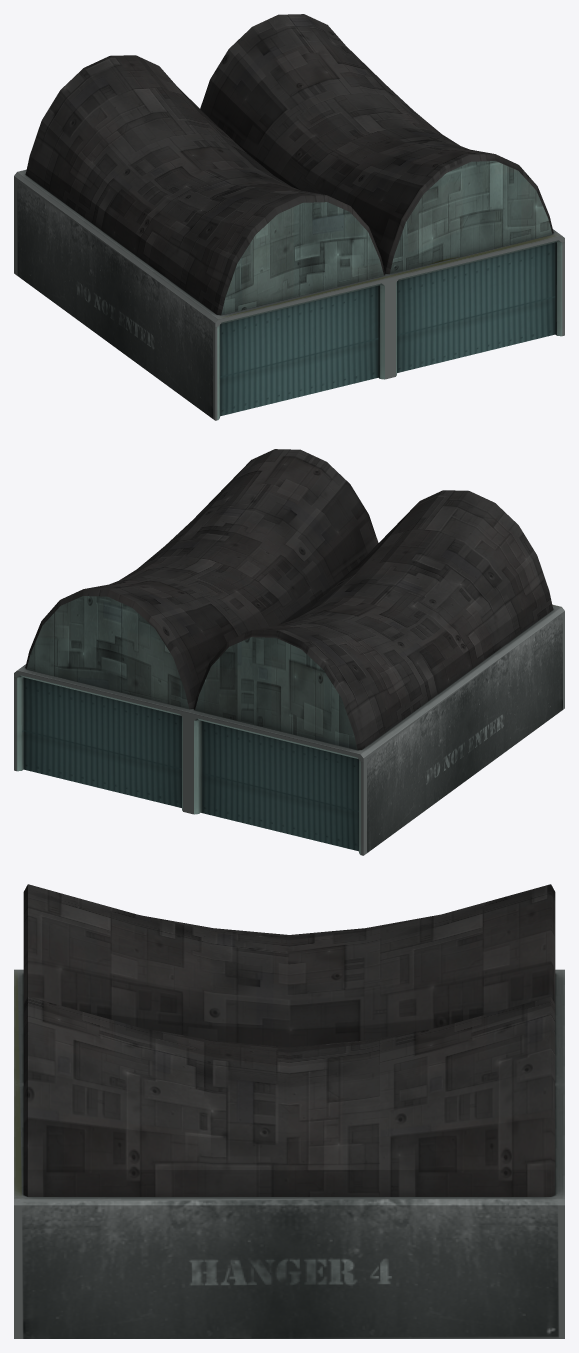
File: Area51_tower_area51base_d0.fbx
3 renders of one model, top to bottom at view 1: azimuth 30°, elevation 25°; view 2: azimuth 150°, elevation 25°; view 3: azimuth 270°, elevation 25°, orthographic. The views are drawn at different scales.
Visible parts, largest first — view 1: Area51_tower_area51base_d0; view 2: Area51_tower_area51base_d0; view 3: Area51_tower_area51base_d0.
Part boxes in pixels (x1=…): Area51_tower_area51base_d0: x1=14, y1=14, x2=564, y2=420; Area51_tower_area51base_d0: x1=14, y1=449, x2=564, y2=855; Area51_tower_area51base_d0: x1=14, y1=884, x2=564, y2=1338.
Bounding box in the file's own units: 7.26 × 3.96 × 7.25.
